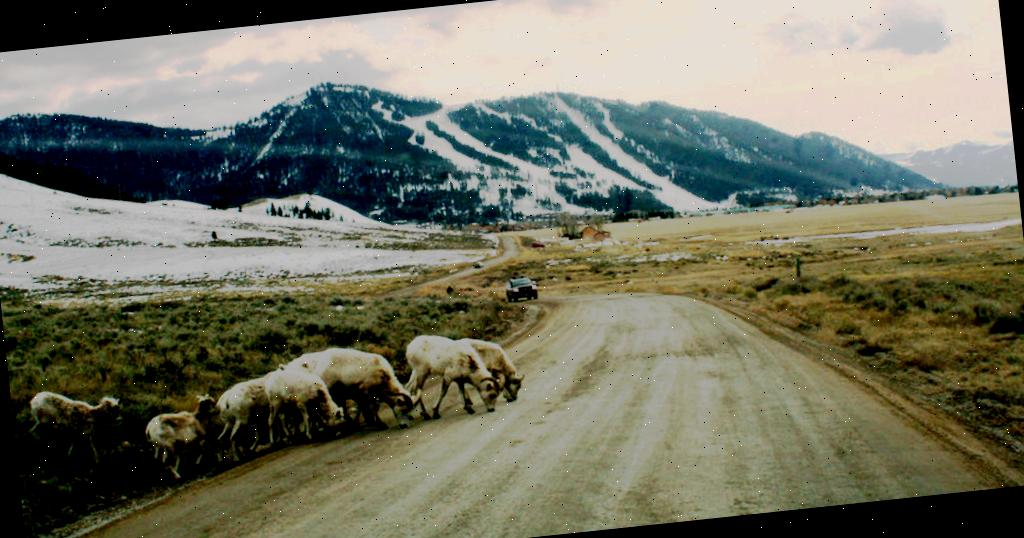Sheep: (316, 339, 427, 440), (402, 326, 503, 420), (26, 382, 130, 472), (146, 395, 228, 483), (262, 367, 348, 448), (216, 376, 276, 462), (464, 330, 528, 405)
